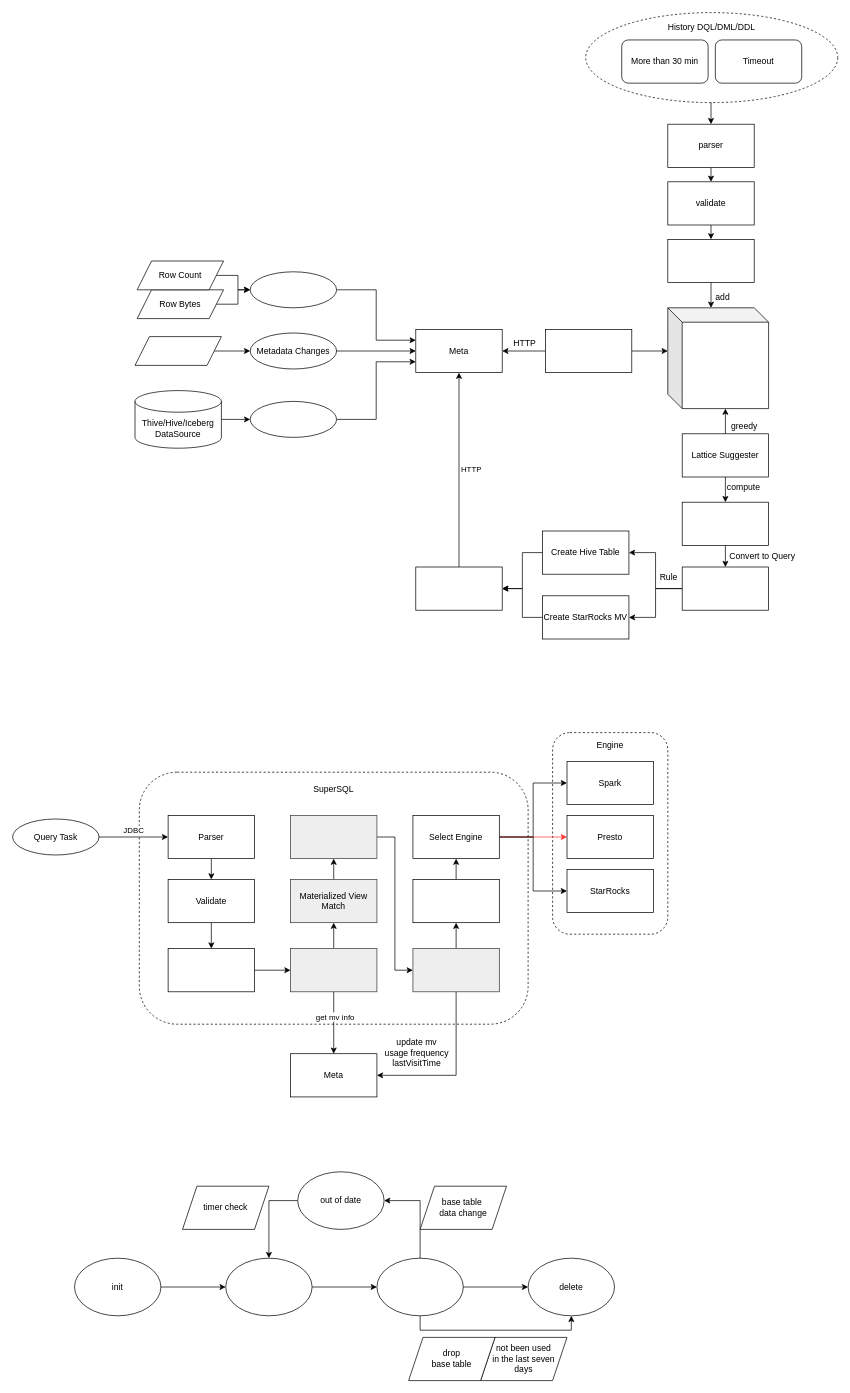
Some shapes in this 850 by 1393 pixel diagram are drawn without their labels. The centre of each missing label's shape, as x and y in pixels:
"active" goes at point 419,1286.
"Data Cube" goes at point 718,358.
"DDL Listener" goes at point 177,350.
"extract query" goes at point 710,261.
"Hot Table Statistics" goes at point 293,289.
"Lattice Statistic Provider" goes at point 588,351.
"Lattices" goes at point 725,523.
"Materialized View Consistency check" goes at point 333,837.
"Materialized View Loading" goes at point 333,970.
"Materialized View Rewrite" goes at point 455,970.
"MV meta" goes at point 725,588.
"Optimizer" goes at point 211,970.
"Other Optimizer" goes at point 455,901.
"Real-time Partition data Changes" goes at point 293,419.
"refresh" goes at point 268,1286.
"Write Meta" goes at point 458,588.
